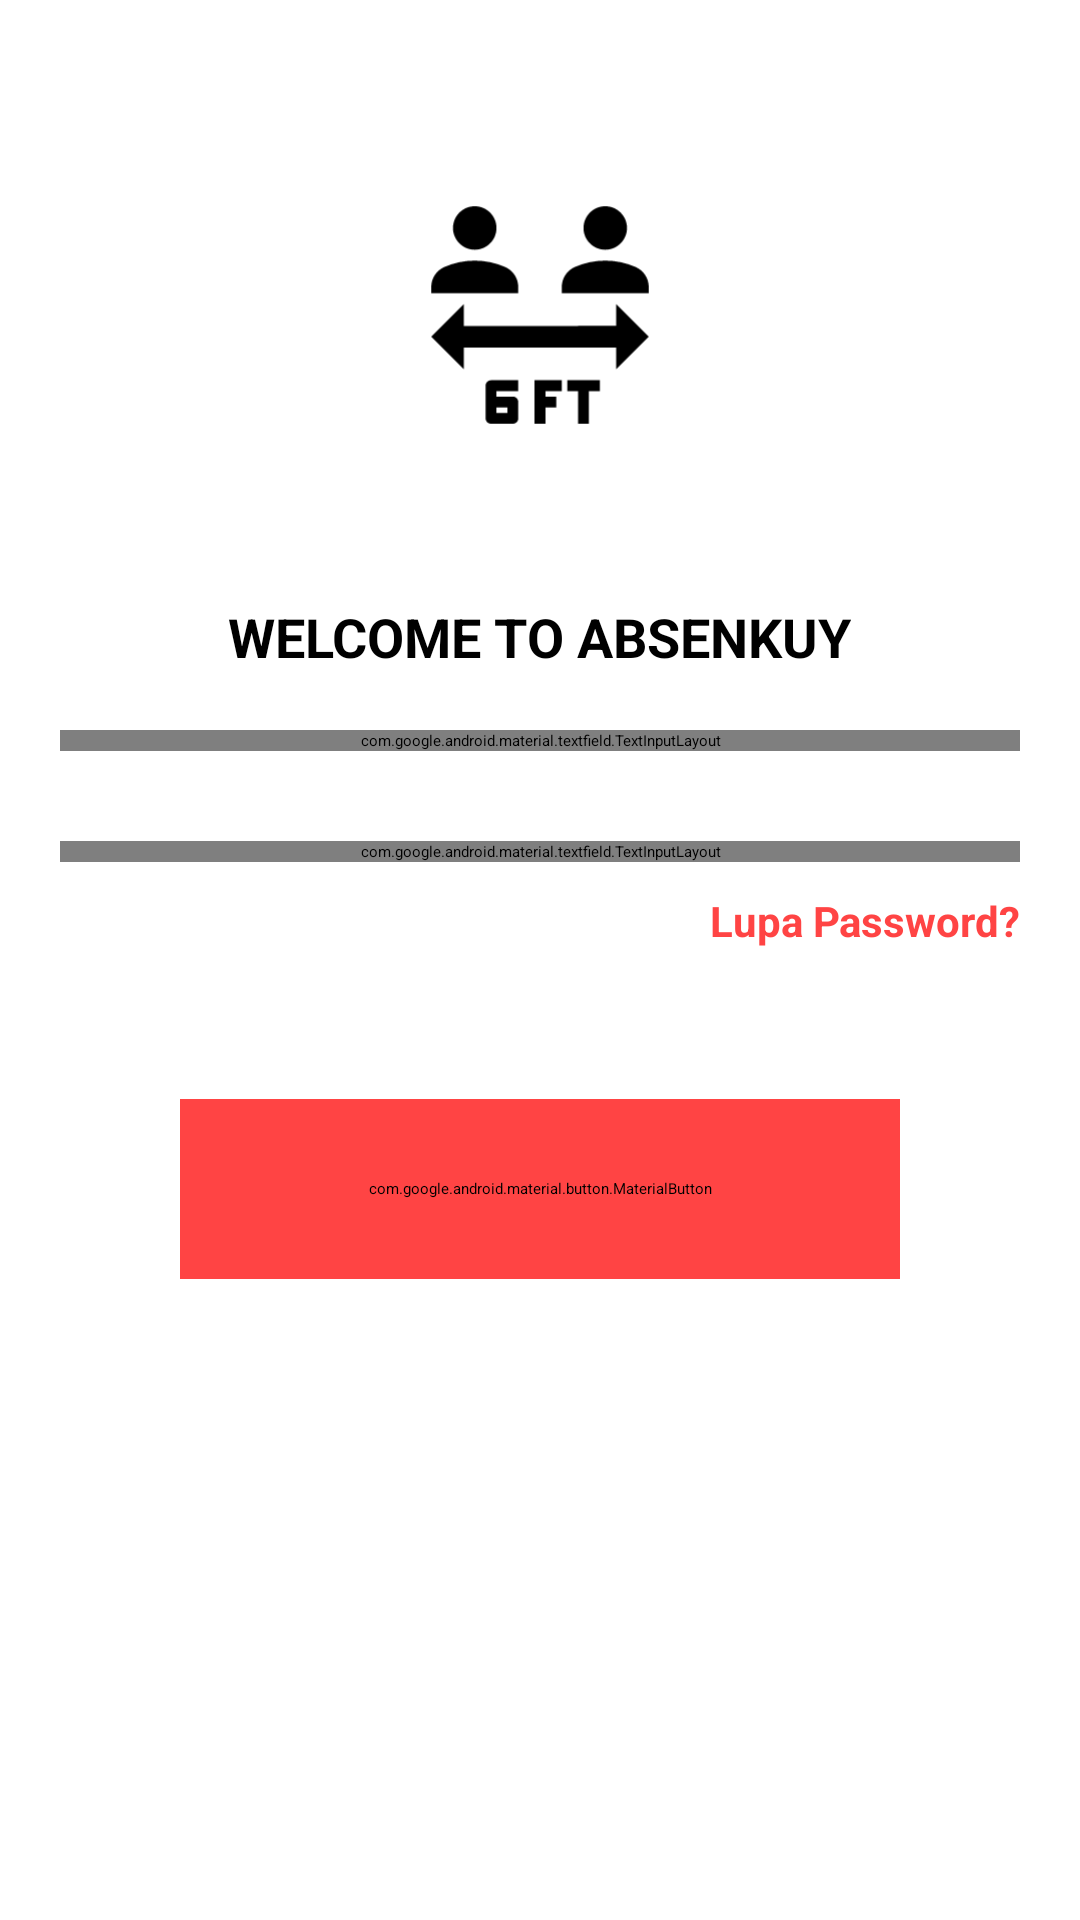

Named icons in this screenshot (1080w x 1920h) and their bounding boxes, bbox=(x1, y1, x2, y2):
orang: bbox=(431, 206, 649, 424)
